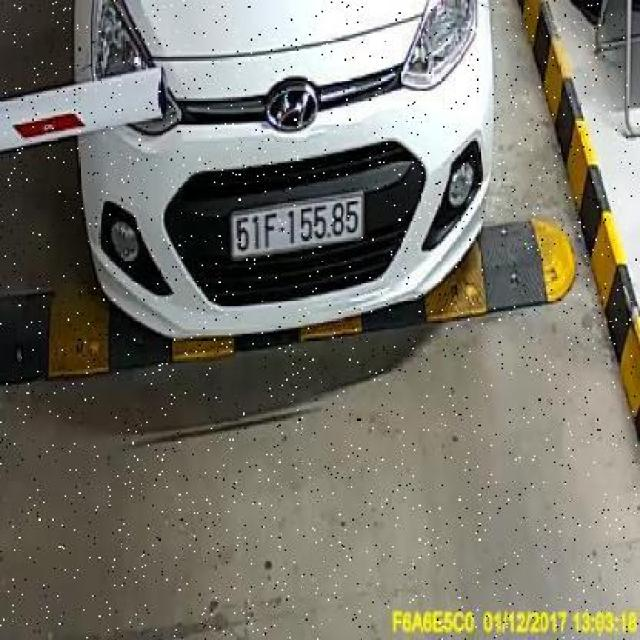number_plate: (226, 194, 368, 260)
